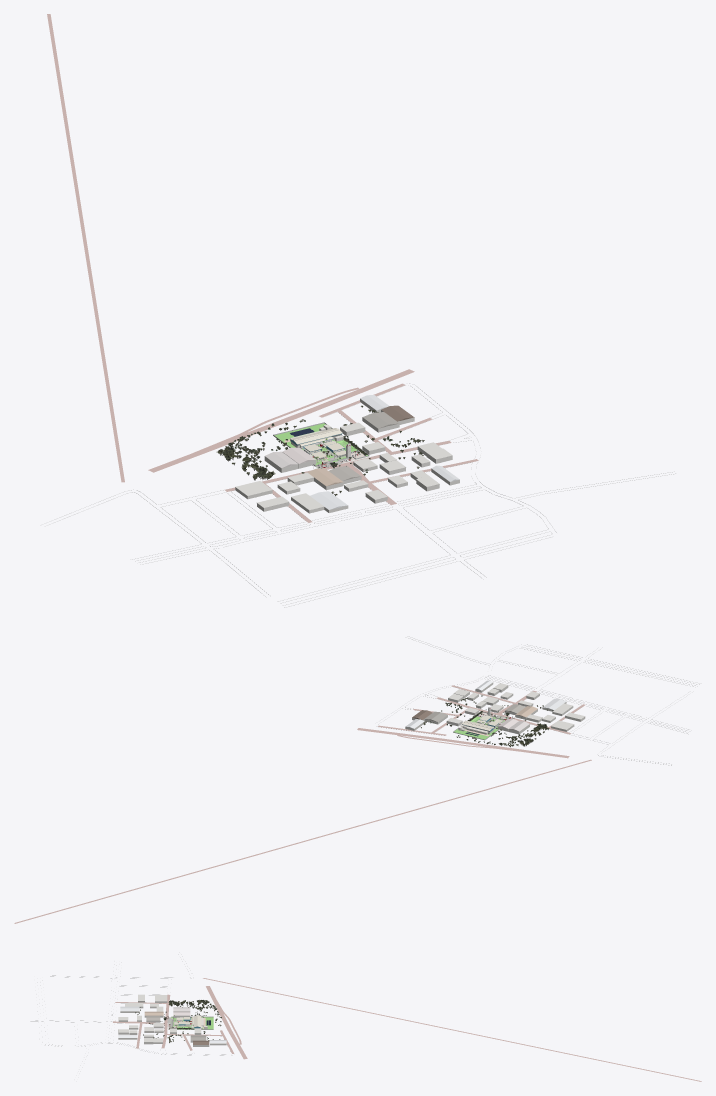
Rendered from senai.glb.
3 renders of one model, top to bottom at view 1: azimuth 30°, elevation 25°; view 2: azimuth 150°, elevation 25°; view 3: azimuth 270°, elevation 25°, orthographic. The views are drawn at different scales.
Parts seen in each view (by area): view 1: Meio_fio, Rua_sem_nome_0.005; view 2: Rua_sem_nome_0.005, Meio_fio; view 3: Rua_sem_nome_0.005, Meio_fio.
Boxes of the visible parts, box(x1,y1,x2,y2) form: Meio_fio: box(40, 383, 675, 607); Rua_sem_nome_0.005: box(47, 14, 124, 482); Rua_sem_nome_0.005: box(14, 759, 591, 923); Meio_fio: box(377, 636, 699, 765); Rua_sem_nome_0.005: box(203, 978, 701, 1081); Meio_fio: box(30, 954, 231, 1071).
Size of the model in its own units: 1019 by 28.58 by 2281.
Materials: 127 (21 with a texture image).
